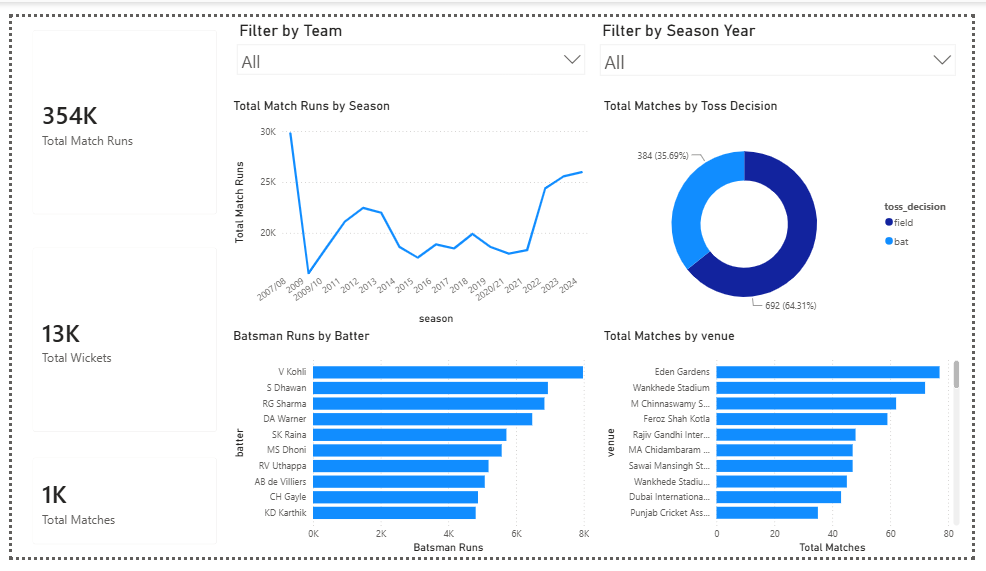

Layout of this report page (visuals, bound fields, positions):
{"tool":"powerbi","page":{"name":"Page 1","canvas":[1280,720],"ordinal":0},"visuals":[{"type":"cardVisual","fields":{"Data":["_Key Measures.Total Match Runs"]},"box":[10,0,280,280],"z":0},{"type":"cardVisual","fields":{"Data":["_Key Measures.Total Wickets"]},"box":[10,290,280,280],"z":1000},{"type":"cardVisual","fields":{"Data":["_Key Measures.Total Matches"]},"box":[10,570,280,150],"z":2000},{"type":"clusteredBarChart","title":"Batsman Runs by Batter","fields":{"Category":["ipl_analytics deliveries.batter"],"Y":["_Key Measures.Batsman Runs"]},"box":[290,414,484,306],"z":3000},{"type":"lineChart","title":"Total Match Runs by Season","fields":{"Category":["ipl_analytics matches.season"],"Y":["_Key Measures.Total Match Runs"]},"box":[290,108,484,306],"z":3001},{"type":"donutChart","title":"Total Matches by Toss Decision","fields":{"Category":["ipl_analytics matches.toss_decision"],"Y":["_Key Measures.Total Matches"]},"box":[784,108,484,306],"z":3002},{"type":"clusteredBarChart","fields":{"Category":["ipl_analytics matches.venue"],"Y":["_Key Measures.Total Matches"]},"box":[784,414,484,306],"z":3003},{"type":"slicer","title":"Filter by Team","fields":{"Values":["ipl_analytics matches.winner"]},"box":[290,0,484,108],"z":3004},{"type":"slicer","fields":{"Values":["ipl_analytics matches.season"]},"box":[774,0,494,108],"z":3005}]}

Visuals, with their boxes in screenshot pixels (x1, y1, x2, y2), scaled from the page's 1280x720 canvas onto the 986x571 screenshot:
cardVisual - _Key Measures.Total Match Runs: [left=8, top=0, right=223, bottom=222]
cardVisual - _Key Measures.Total Wickets: [left=8, top=230, right=223, bottom=452]
cardVisual - _Key Measures.Total Matches: [left=8, top=452, right=223, bottom=570]
"Batsman Runs by Batter" clusteredBarChart: [left=223, top=328, right=596, bottom=570]
"Total Match Runs by Season" lineChart: [left=223, top=86, right=596, bottom=328]
"Total Matches by Toss Decision" donutChart: [left=604, top=86, right=977, bottom=328]
clusteredBarChart - ipl_analytics matches.venue x _Key Measures.Total Matches: [left=604, top=328, right=977, bottom=570]
"Filter by Team" slicer: [left=223, top=0, right=596, bottom=86]
slicer - ipl_analytics matches.season: [left=596, top=0, right=977, bottom=86]
